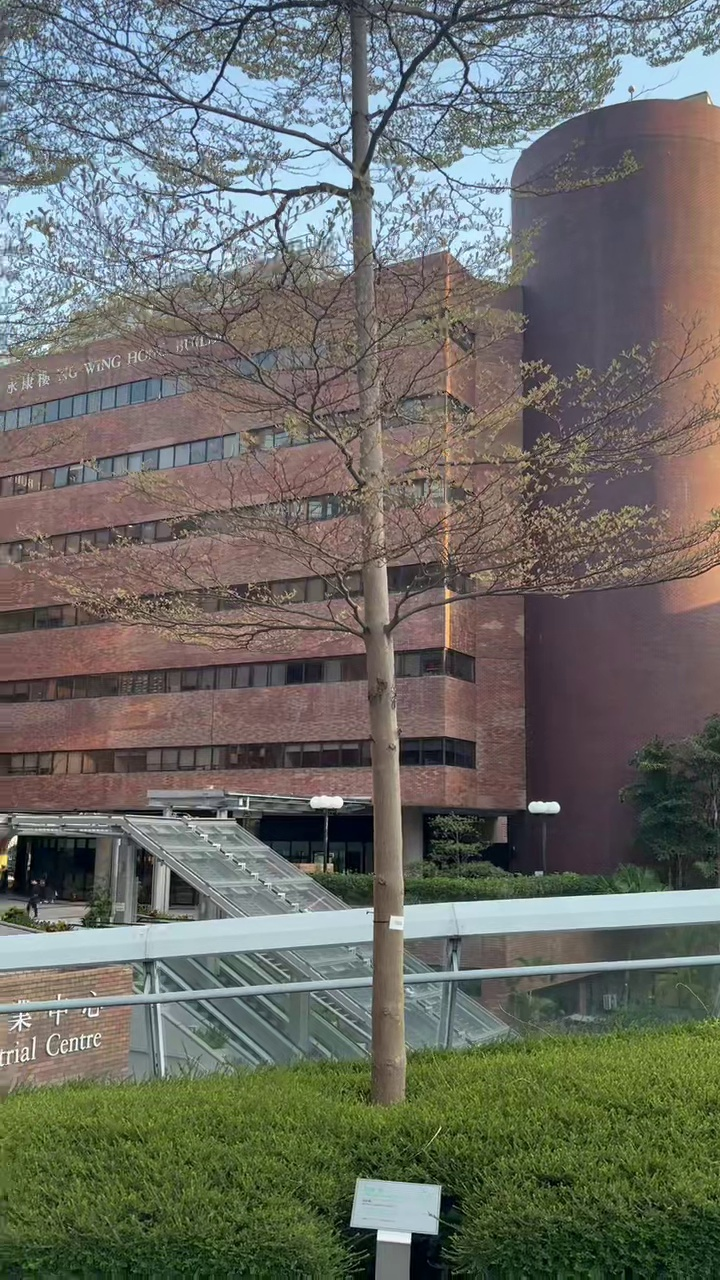Terminalia mantaly: (8, 0, 719, 1103)
